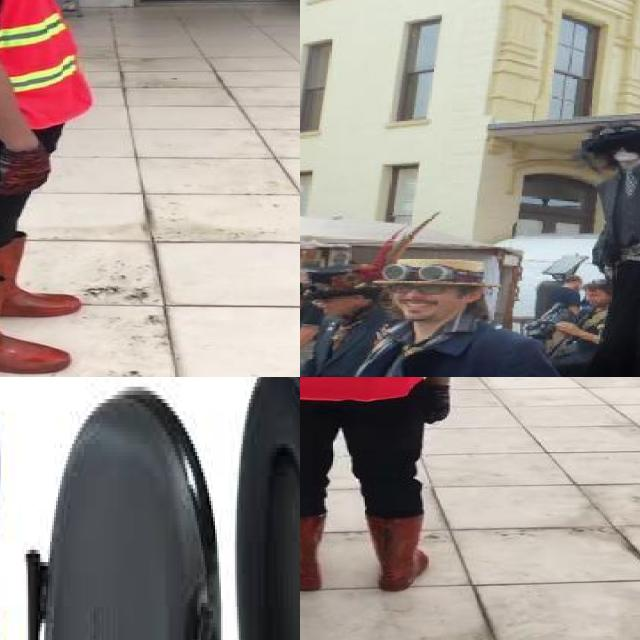Ear-protection: (38, 378, 223, 640), (232, 377, 300, 640)
boots: (0, 272, 70, 375), (0, 235, 79, 319), (365, 512, 429, 593), (300, 513, 325, 591)
face_nomask: (397, 282, 448, 316)
hand_glove: (0, 146, 52, 196), (426, 386, 452, 423)
person: (0, 0, 119, 377), (300, 377, 480, 601), (300, 250, 549, 377), (570, 106, 640, 377)
vest: (0, 0, 89, 132)
